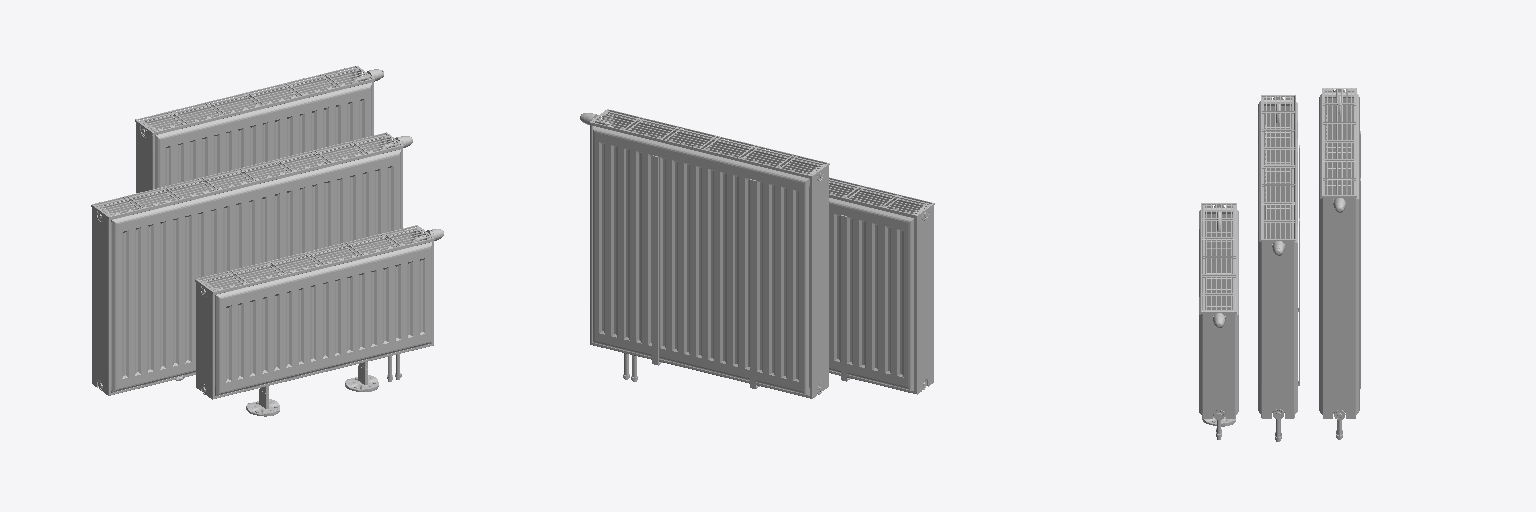
File: radiators.obj
3 renders of one model, left to right at view 1: azimuth 30°, elevation 25°; view 2: azimuth 150°, elevation 25°; view 3: azimuth 270°, elevation 25°, orthographic.
Visible parts, largest first — view 1: Radiator_02, Radiator_01, Radiator_03; view 2: Radiator_03, Radiator_02; view 3: Radiator_03, Radiator_02, Radiator_01.
Part boxes in pixels (x1,y1,x2,y2): Radiator_02: (91,132,412,395); Radiator_01: (195,225,443,416); Radiator_03: (135,66,383,192); Radiator_03: (580,109,829,398); Radiator_02: (829,177,934,394); Radiator_03: (1319,88,1360,439); Radiator_02: (1258,95,1299,441); Radiator_01: (1199,203,1238,439).
Bounding box in the file's own units: 90.86 × 70.77 × 40.68.